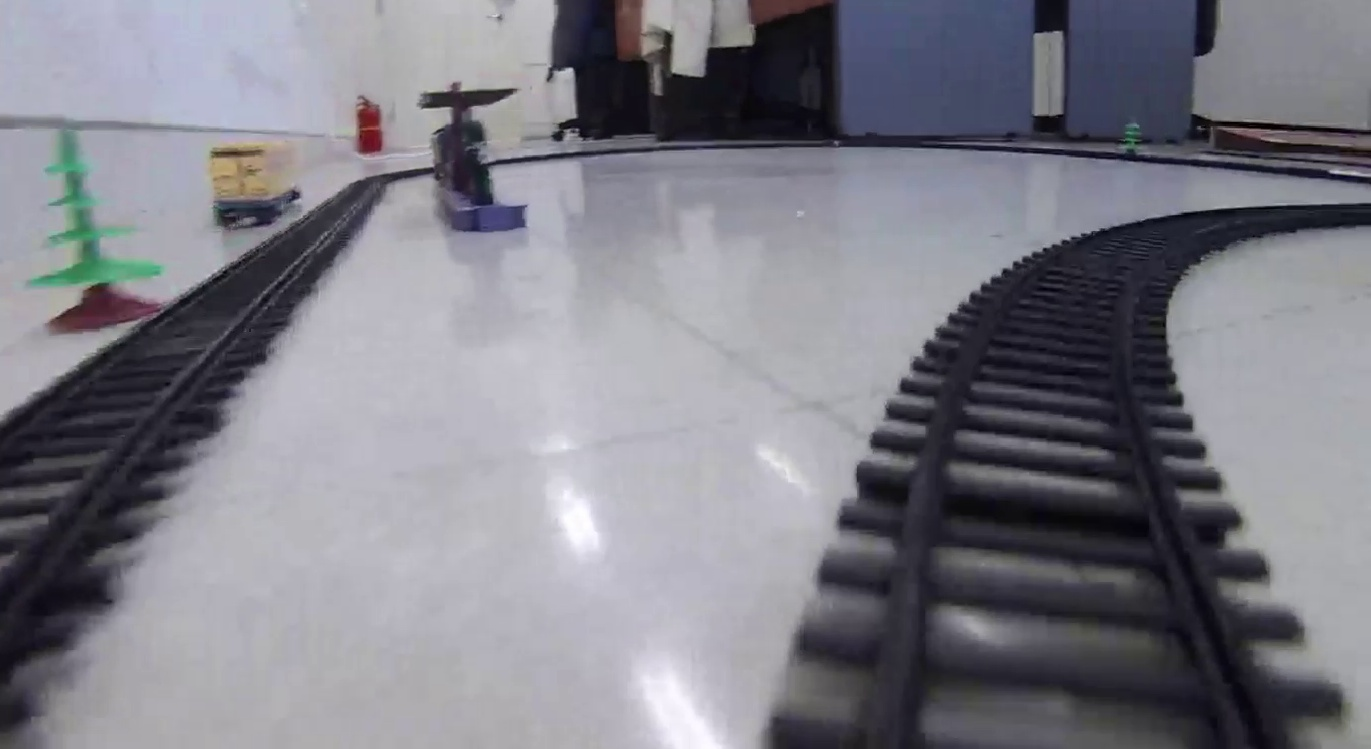tree: (18, 123, 168, 340)
